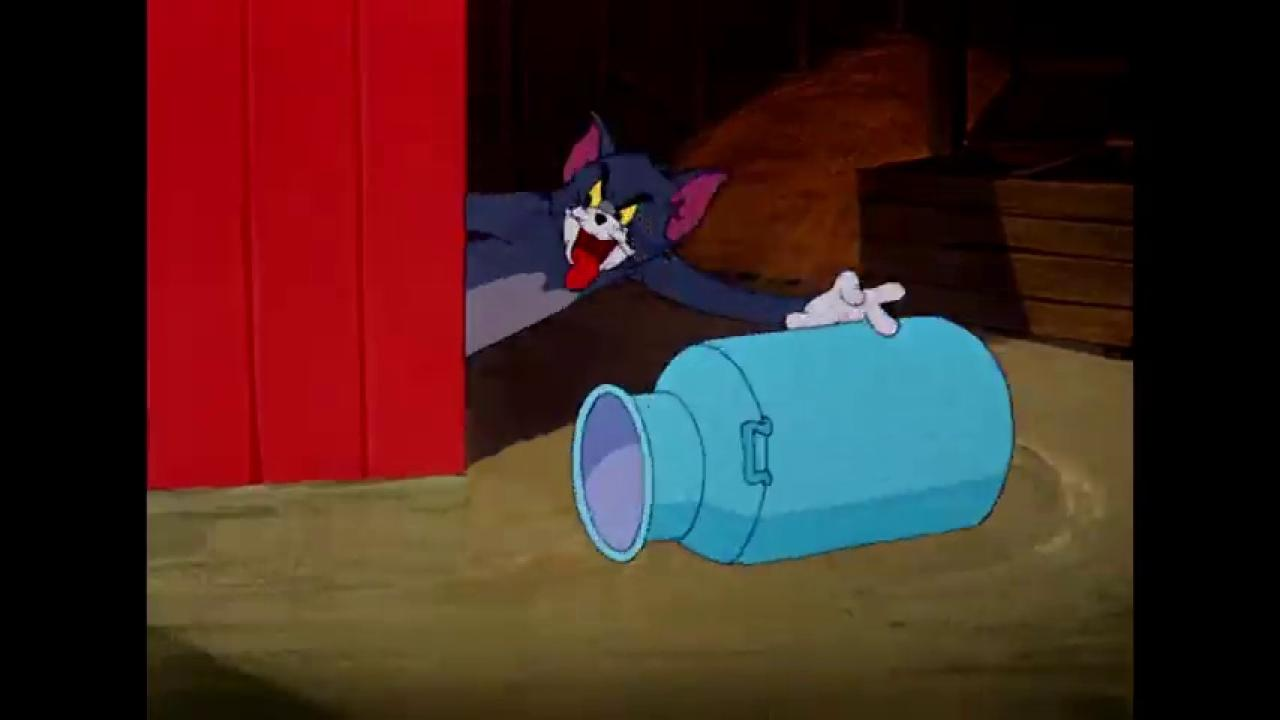Tom: (465, 107, 907, 359)
